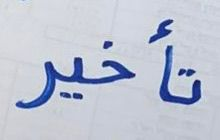hamza: (145, 12, 174, 109)
khah: (87, 38, 137, 89)
reh: (15, 60, 56, 109)
teh: (175, 60, 207, 110)
yeh: (57, 53, 86, 102)
